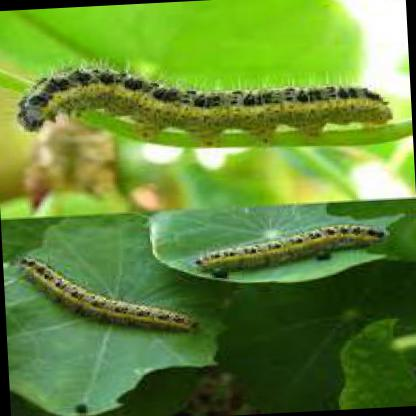pieris: (10, 60, 398, 145), (23, 256, 200, 333), (184, 222, 388, 273)
